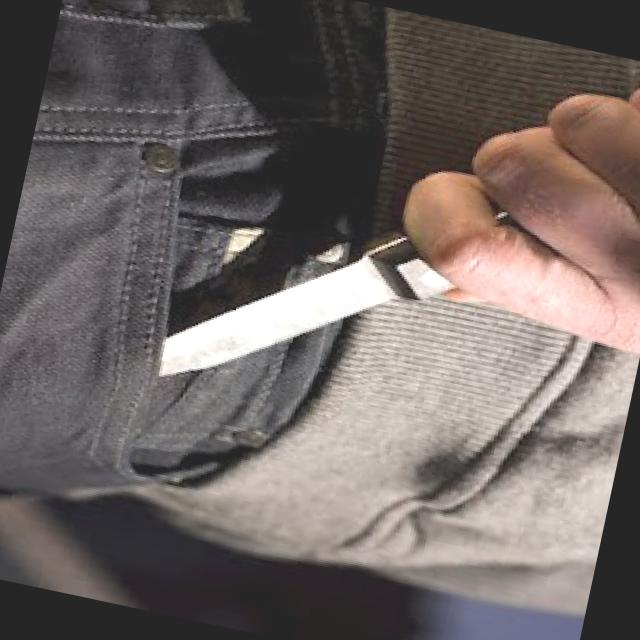knife: (134, 66, 602, 472)
